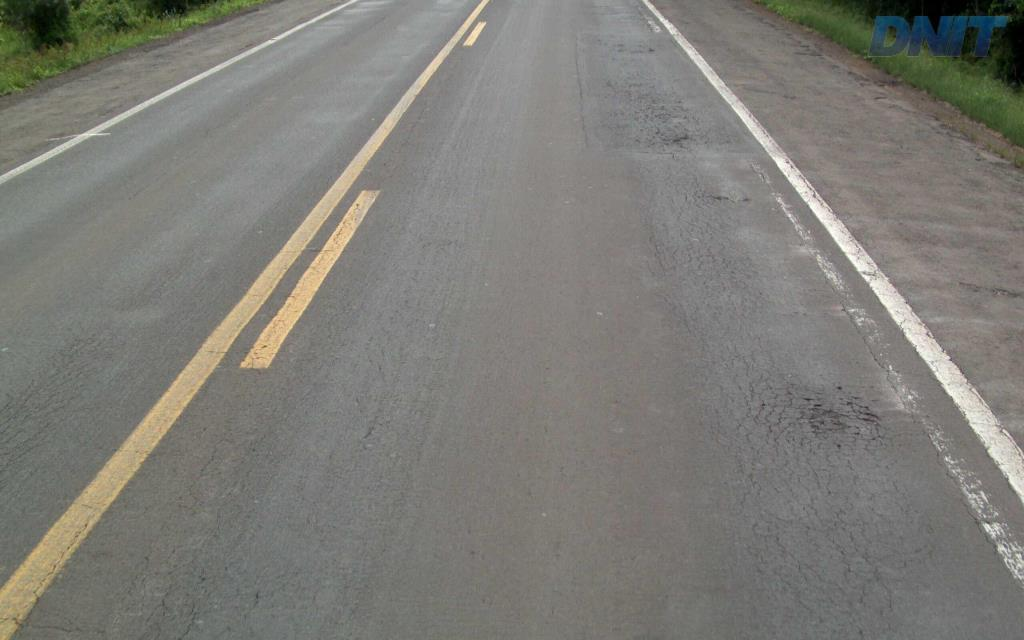crack: (773, 383, 892, 446), (719, 344, 758, 373)
